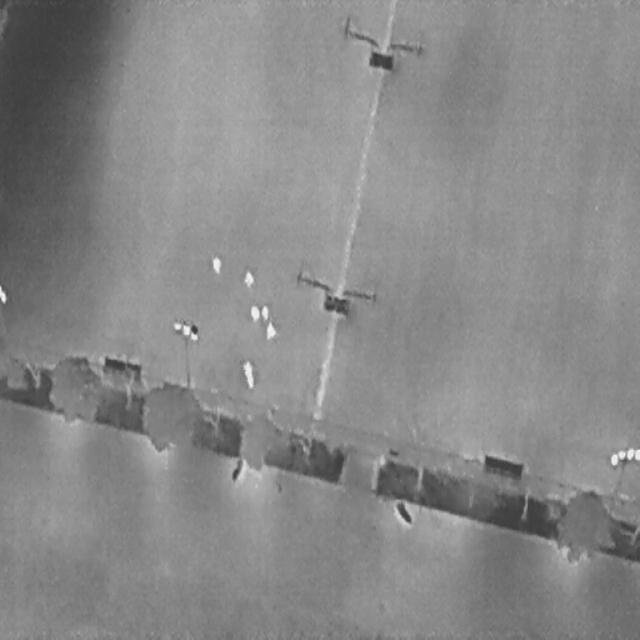Person: (265, 320, 275, 339), (242, 357, 252, 375), (212, 255, 221, 274), (250, 304, 259, 322), (245, 371, 254, 389), (244, 269, 253, 286), (261, 302, 268, 320)
